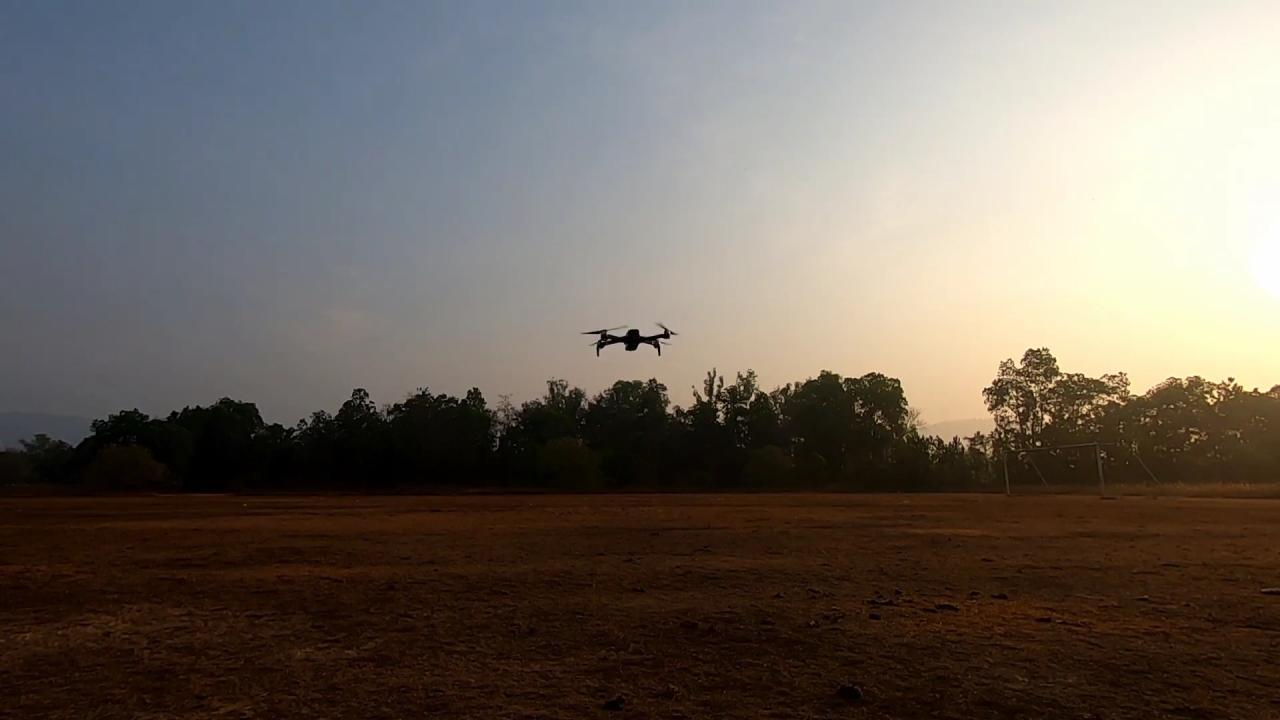Drone: (576, 312, 688, 360)
